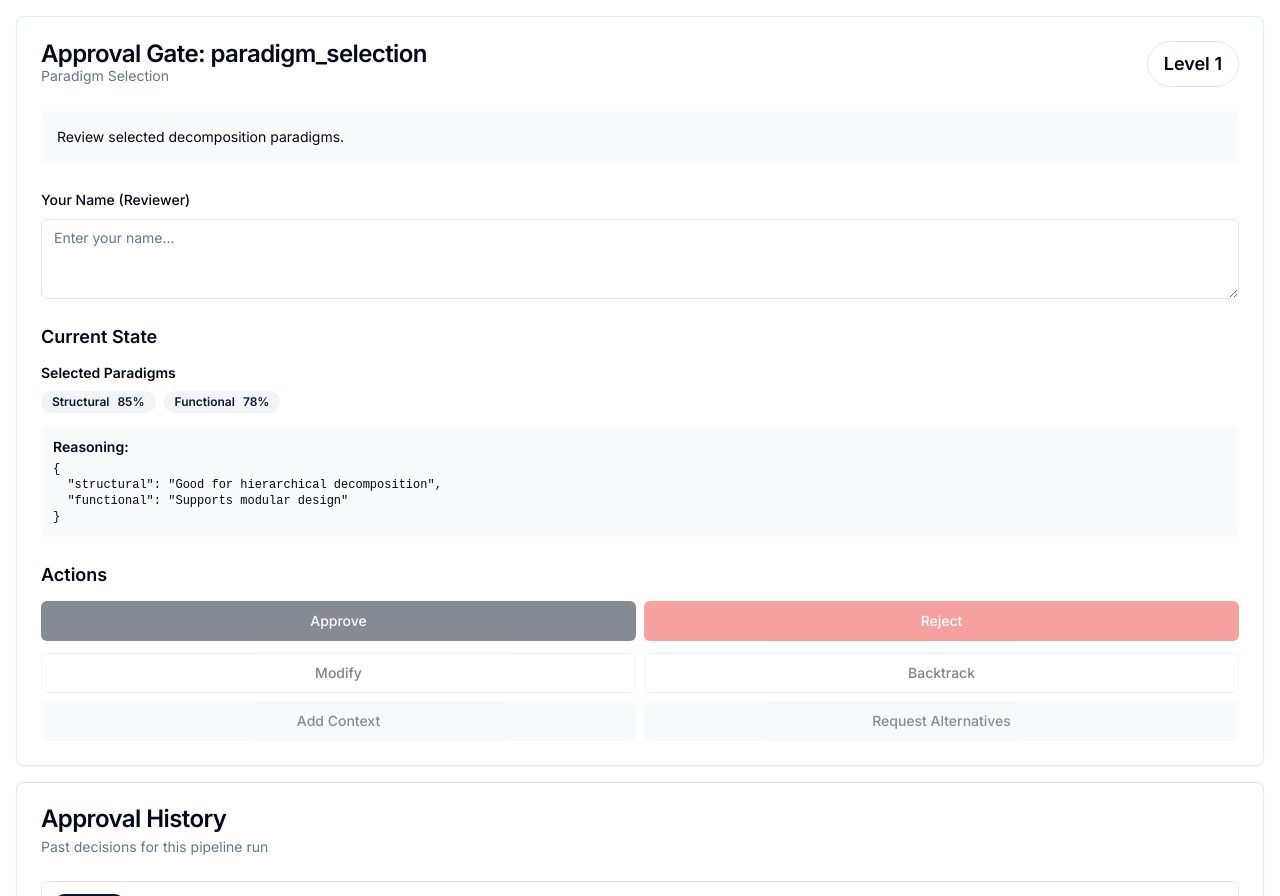
Test case: HumanApprovalGatePanel › Modify Action › should open modify dialog when modify button is clicked
The width and height of the screenshot is (1280, 896).
Type "John Doe" into the text box labelled "Your Name (Reviewer)" at [640, 259], box [41,219,1239,299]
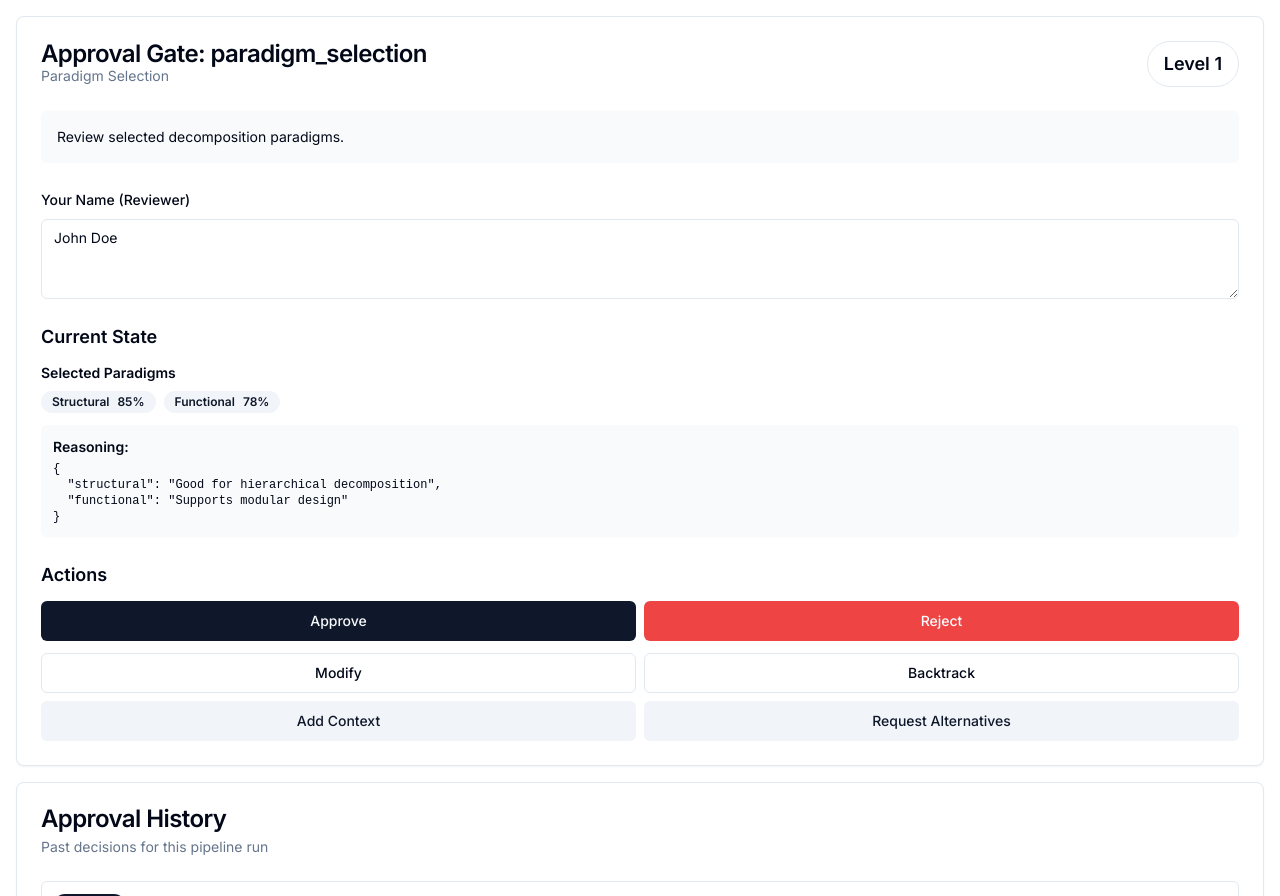
Click the button "Modify" at [338, 673], box [41,653,636,693]
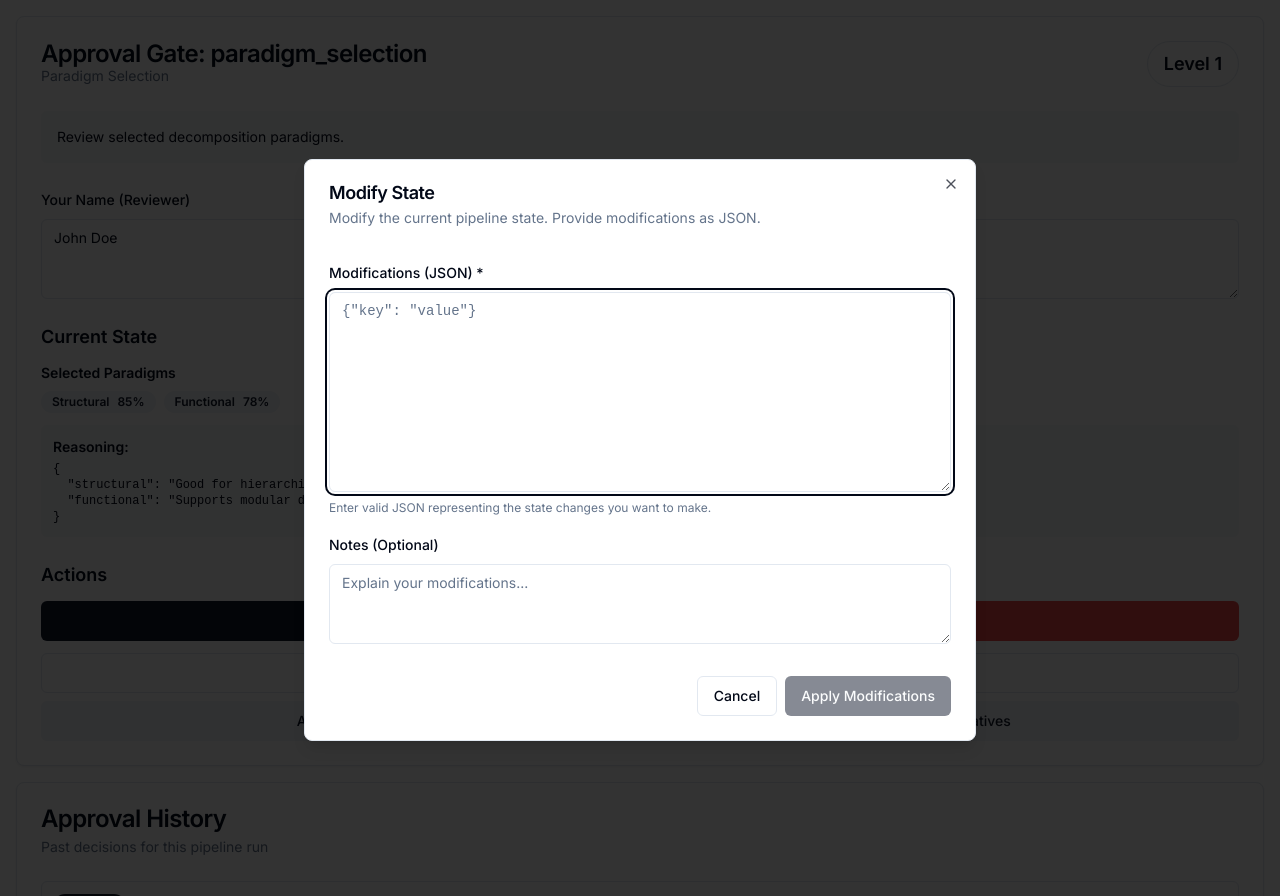
Now the heading "Modify State" is shown, box [329,182,434,203]
